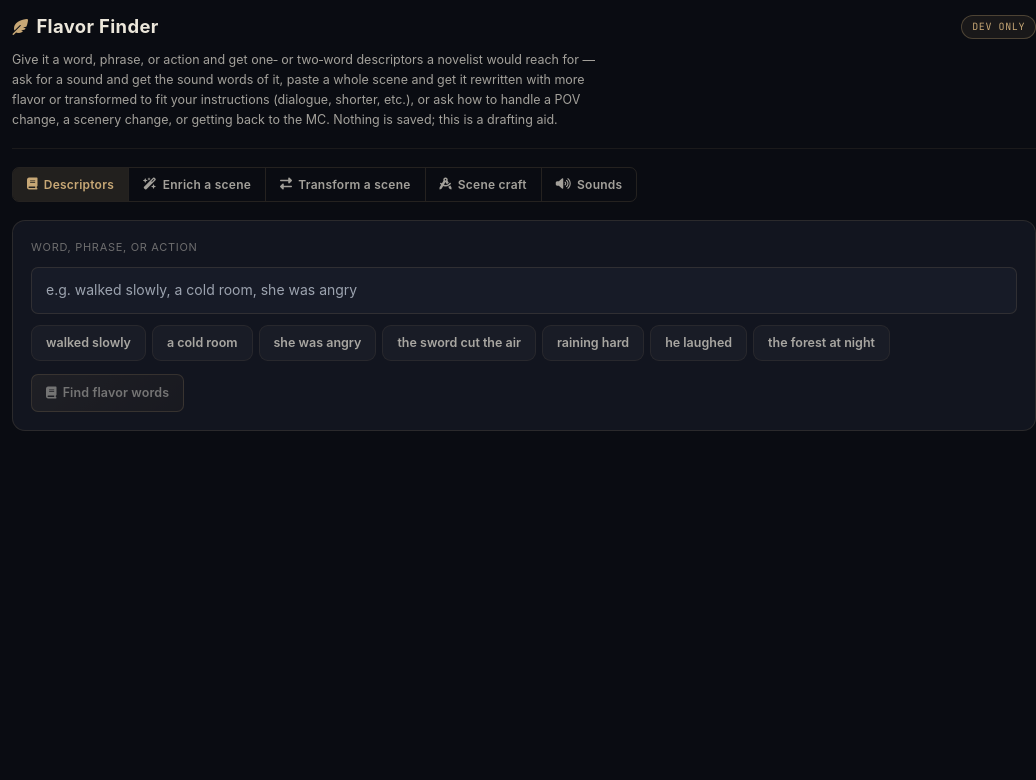
Scenario: FlavorFinder — answered-by provider › names the primary provider without a fallback warning
The image size is (1036, 780).
Type "walked slowly" into the field labelled "Word, phrase, or action" at [524, 290], box [31,267,1017,314]
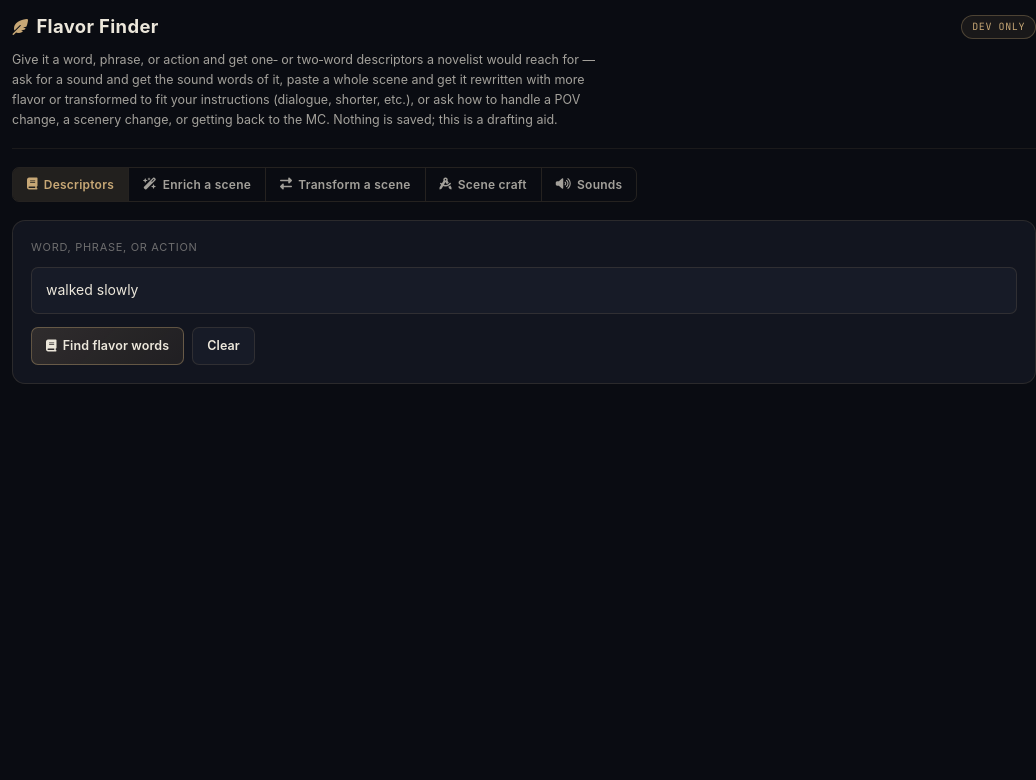
Click the button "Find flavor words" at [108, 346], box [31,327,184,365]
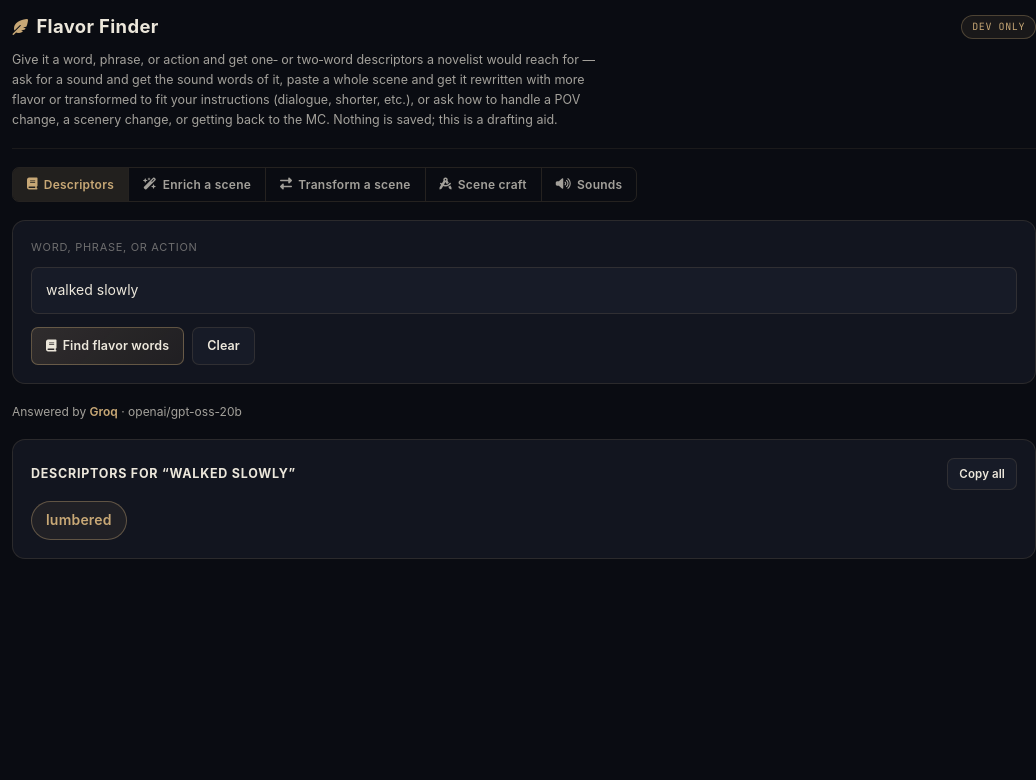
Expected: the text "Groq" is shown, [90,404,118,419]
Expected: the text "Answered by Groq · openai/gpt-oss-20b" is shown, [12,404,242,419]
